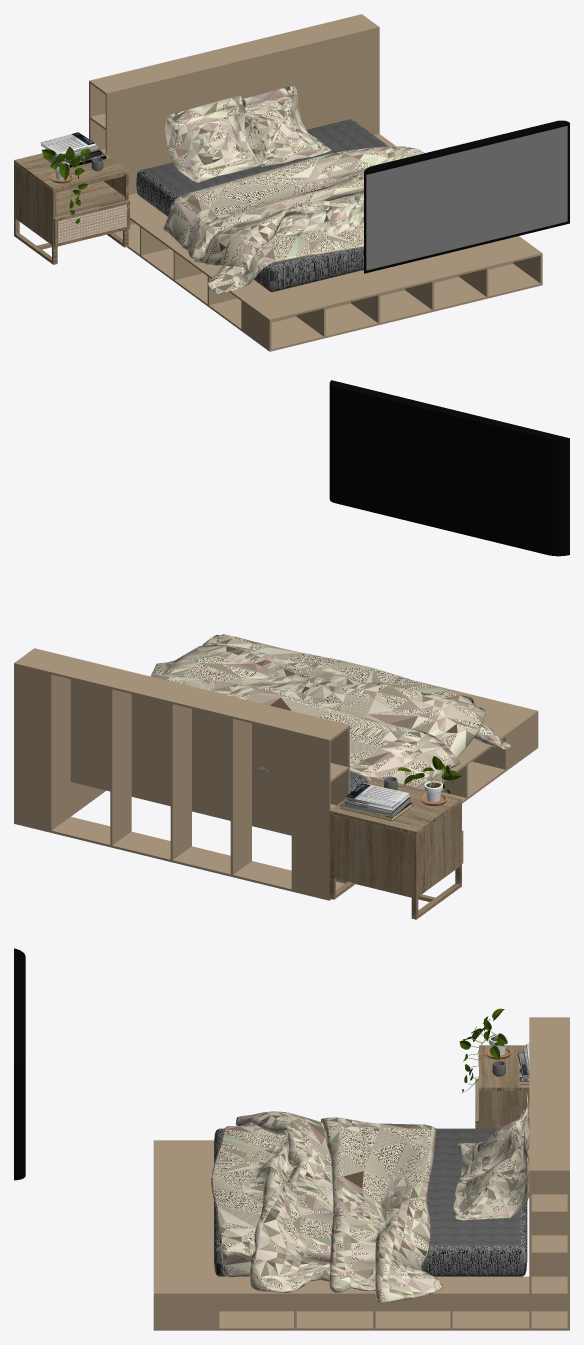
File: noithatphongngu.gltf
3 renders of one model, top to bottom at view 1: azimuth 30°, elevation 25°; view 2: azimuth 150°, elevation 25°; view 3: azimuth 270°, elevation 25°, orthographic. The views are drawn at different scales.
Visible parts, largest first — view 1: noithatphongngu; view 2: noithatphongngu; view 3: noithatphongngu.
Part boxes in pixels (bbox=[...]): noithatphongngu: bbox=[14, 14, 569, 351]; noithatphongngu: bbox=[14, 380, 569, 919]; noithatphongngu: bbox=[14, 948, 569, 1330].
Size of the model in its own units: 2.72 by 1.5 by 3.06.
